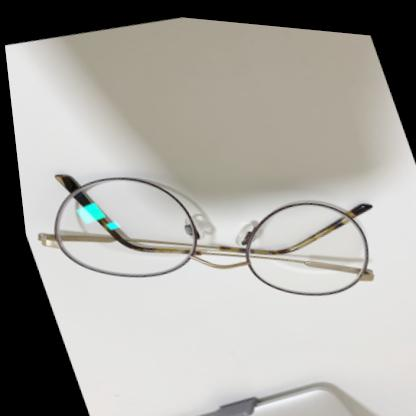Spectacles: (8, 95, 405, 365)
